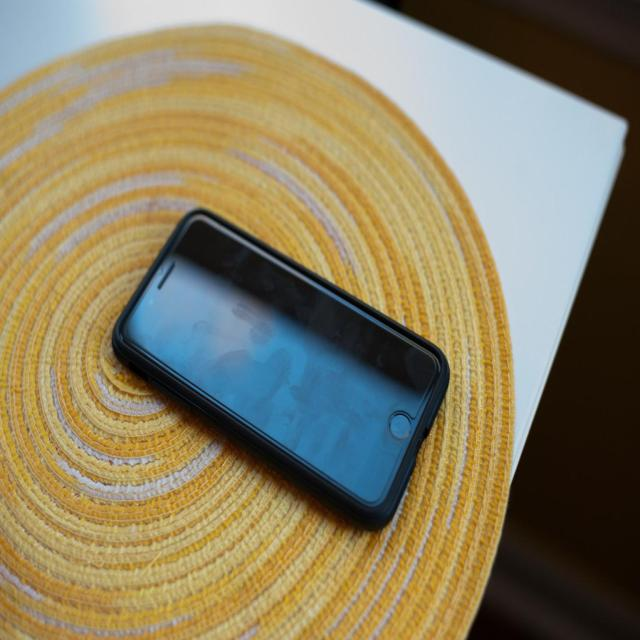Phone: (110, 211, 452, 532)
